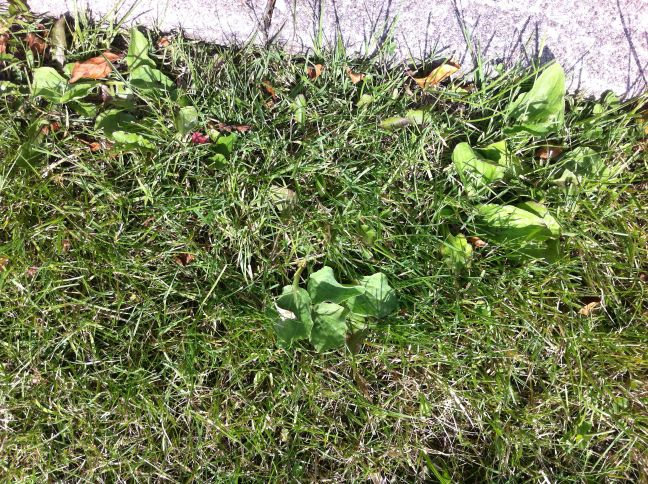weed1: (438, 54, 600, 256), (19, 12, 211, 164), (270, 257, 404, 354)
